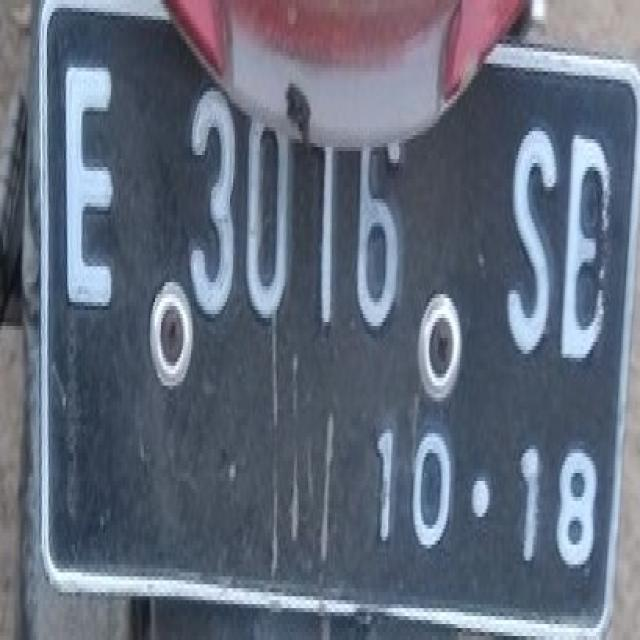plate: (36, 0, 632, 628)
